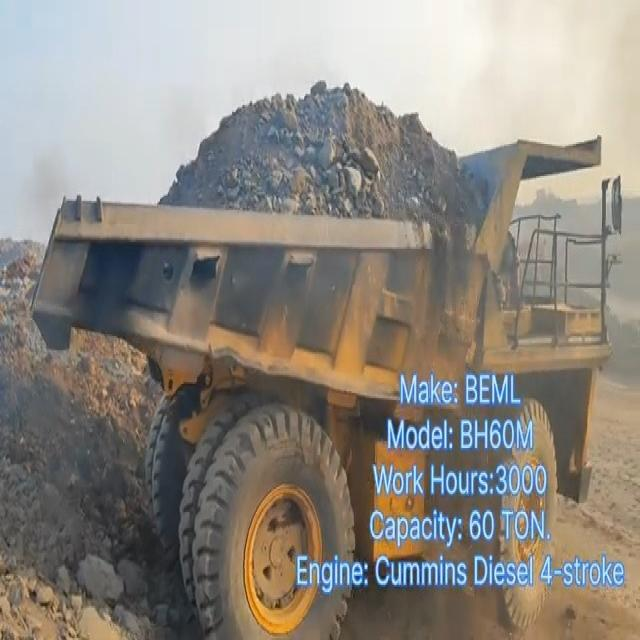dump_truck: (33, 186, 380, 628)
